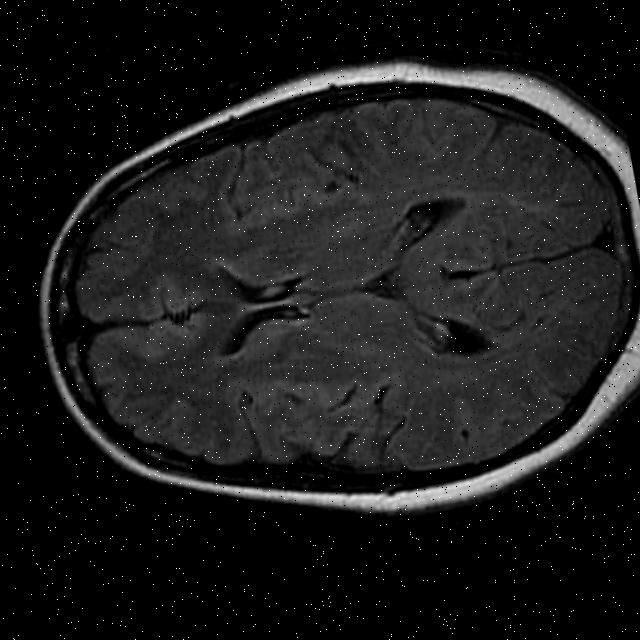NoTumor: (1, 10, 640, 583)
